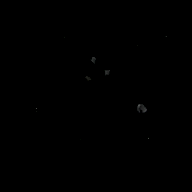v: (81, 55, 110, 80)
